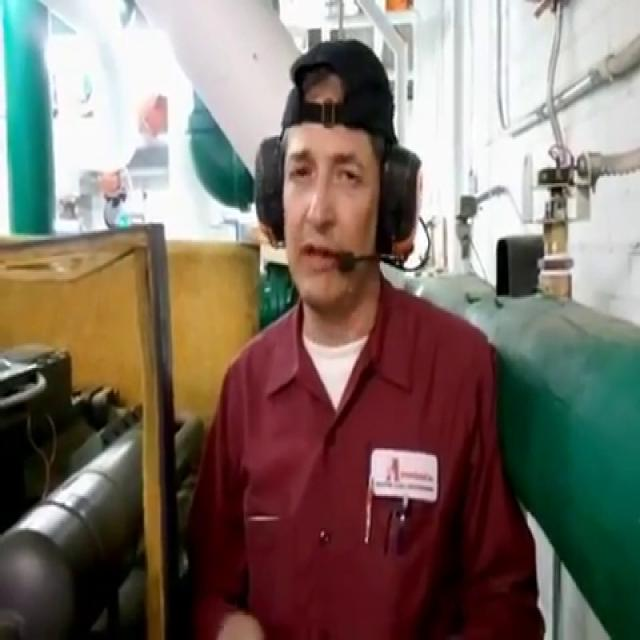earmuff: (372, 139, 428, 271), (250, 124, 288, 254)
